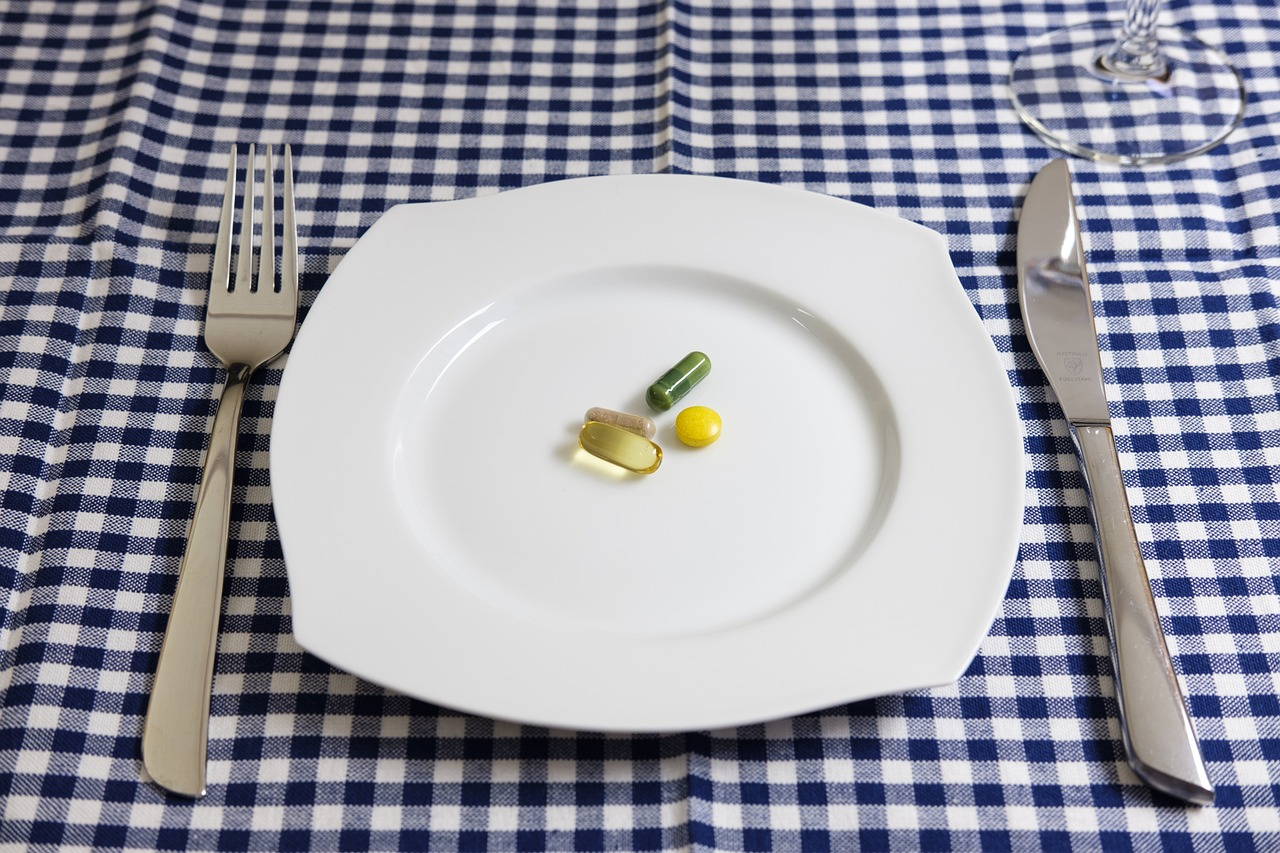knife: (1008, 150, 1236, 810)
